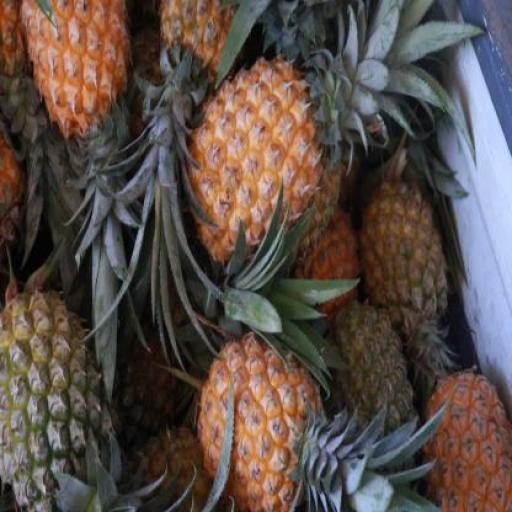------------------------------: (0, 289, 119, 510), (362, 169, 448, 342)
Pineapple - v8 v1: (185, 62, 334, 273), (200, 327, 322, 512), (27, 0, 131, 142), (426, 366, 509, 512)
